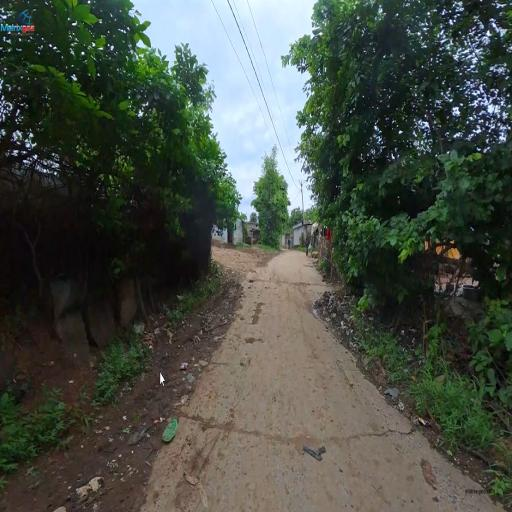longitudinal_crack: (190, 406, 399, 473)
